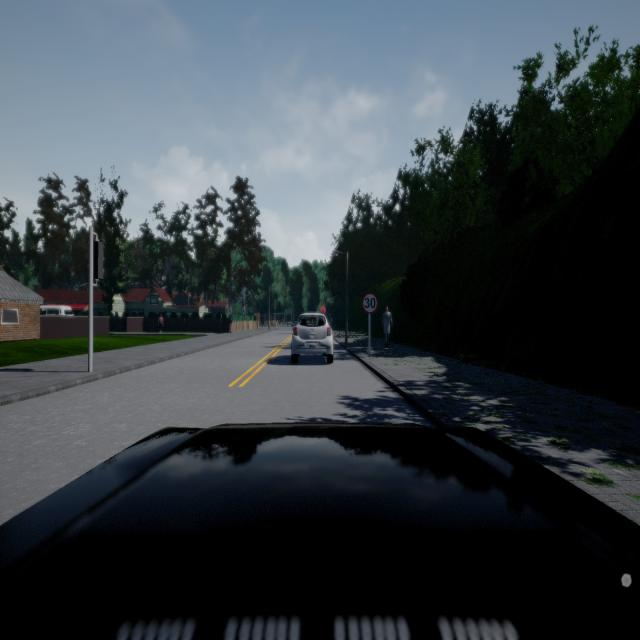Speed Limit -30-: (362, 292, 378, 314)
